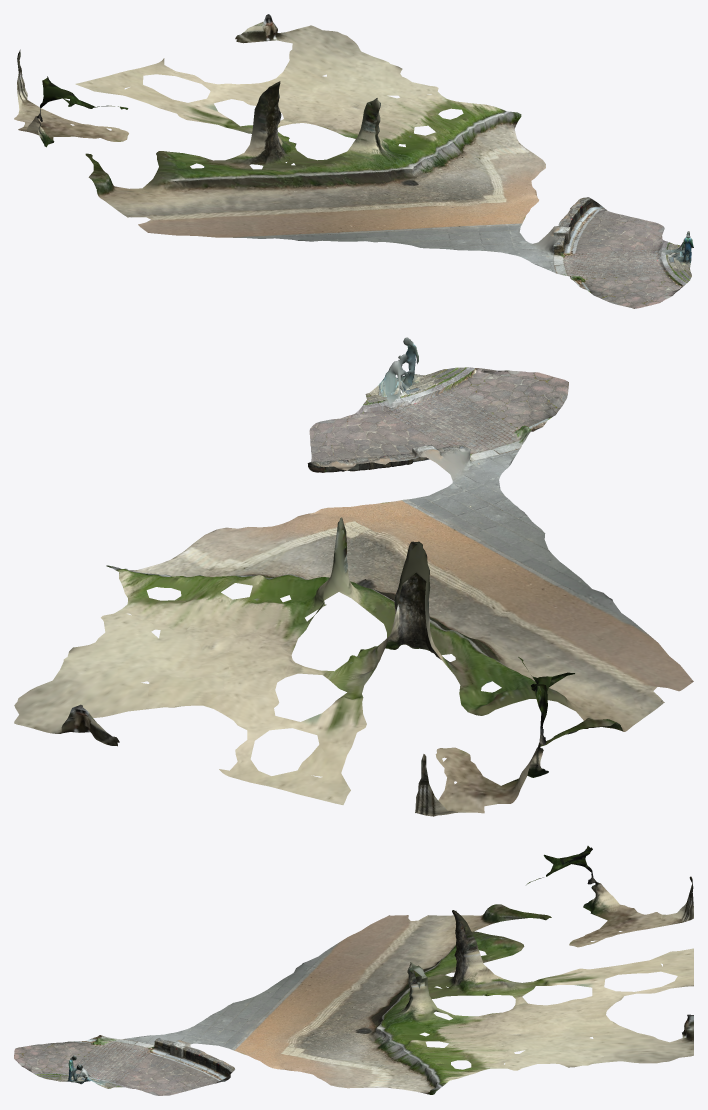
The picture shows the model from 3 angles, top to bottom: view 1: azimuth 30°, elevation 25°; view 2: azimuth 150°, elevation 25°; view 3: azimuth 270°, elevation 25°; orthographic projection. The views are drawn at different scales.
Parts seen in each view (by area): view 1: baked_mesh_6fbe4a7c; view 2: baked_mesh_6fbe4a7c; view 3: baked_mesh_6fbe4a7c.
Boxes of the visible parts, <box> form: baked_mesh_6fbe4a7c: <box>14,14,693,308</box>; baked_mesh_6fbe4a7c: <box>14,337,693,816</box>; baked_mesh_6fbe4a7c: <box>14,846,693,1095</box>.
Bounding box in the file's own units: 4.02 × 0.8495 × 6.34.
Materials: 1 (1 with a texture image).
